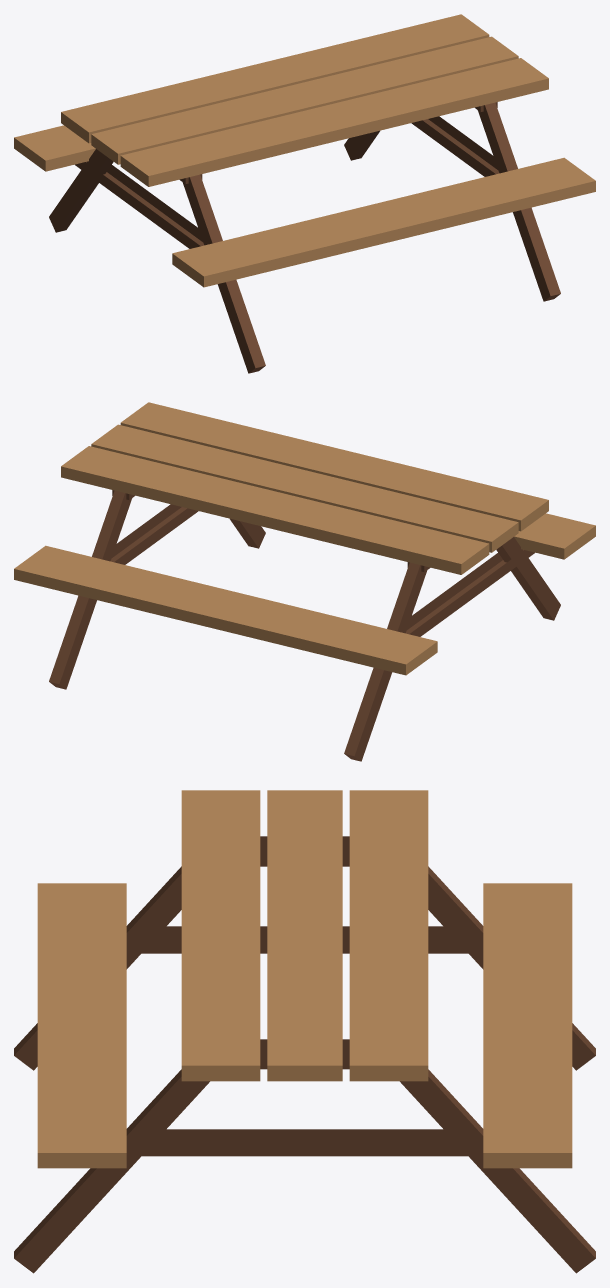
Rendered from picnic_table.glb.
3 renders of one model, top to bottom at view 1: azimuth 30°, elevation 25°; view 2: azimuth 150°, elevation 25°; view 3: azimuth 270°, elevation 25°, orthographic. The views are drawn at different scales.
Parts seen in each view (by area): view 1: Body; view 2: Body; view 3: Body.
Part boxes in pixels (box(x1,y1,x2,y2)): Body: box(14, 14, 595, 373); Body: box(14, 402, 595, 761); Body: box(14, 790, 595, 1273).
Size of the model in its own units: 1.9 by 0.774 by 1.7.
